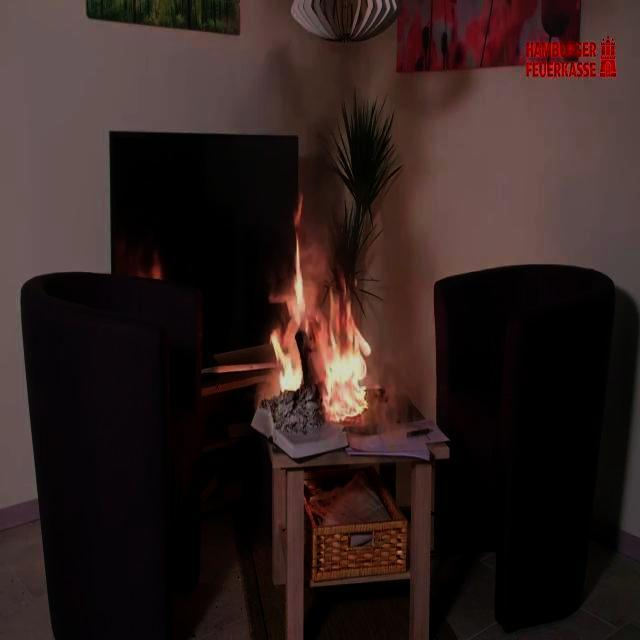fire: (260, 11, 372, 238), (386, 31, 480, 198)
smoke: (270, 185, 372, 435)
